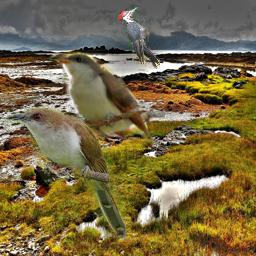Cuckoo: (4, 108, 126, 239), (47, 44, 165, 141)
Woodpecker: (118, 7, 160, 69)
